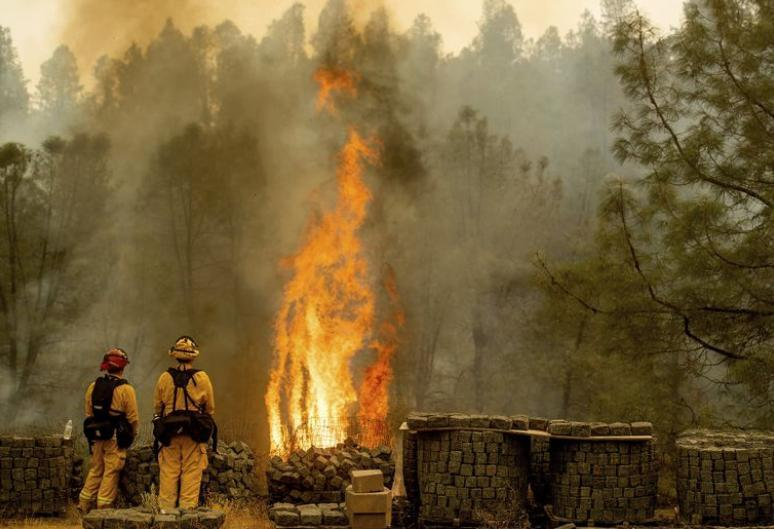Fire: (258, 116, 415, 465)
